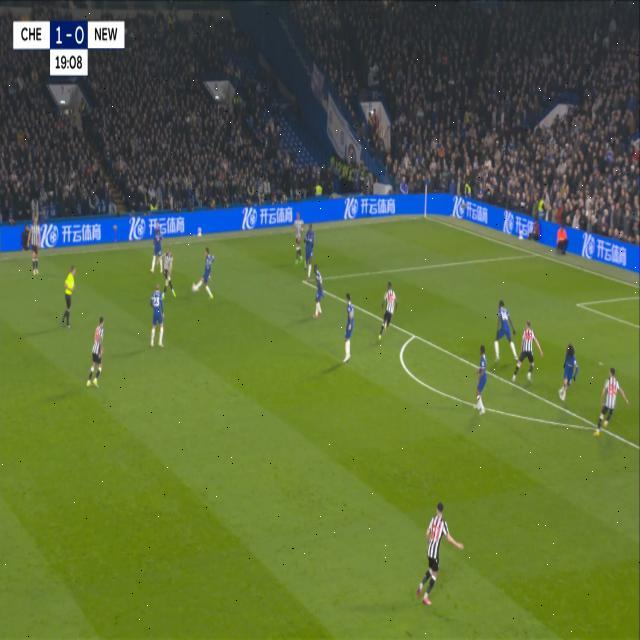Chelsea: (492, 294, 520, 366), (190, 242, 217, 302), (147, 278, 168, 349), (558, 339, 580, 406), (472, 339, 490, 417), (340, 288, 357, 365), (310, 259, 326, 321), (148, 218, 164, 275), (302, 224, 314, 278)
Newcastle: (414, 496, 466, 612), (592, 362, 628, 436), (512, 322, 544, 383), (85, 310, 106, 388), (374, 278, 398, 342), (160, 244, 180, 304), (27, 210, 42, 280)
Refree: (58, 260, 78, 330)
